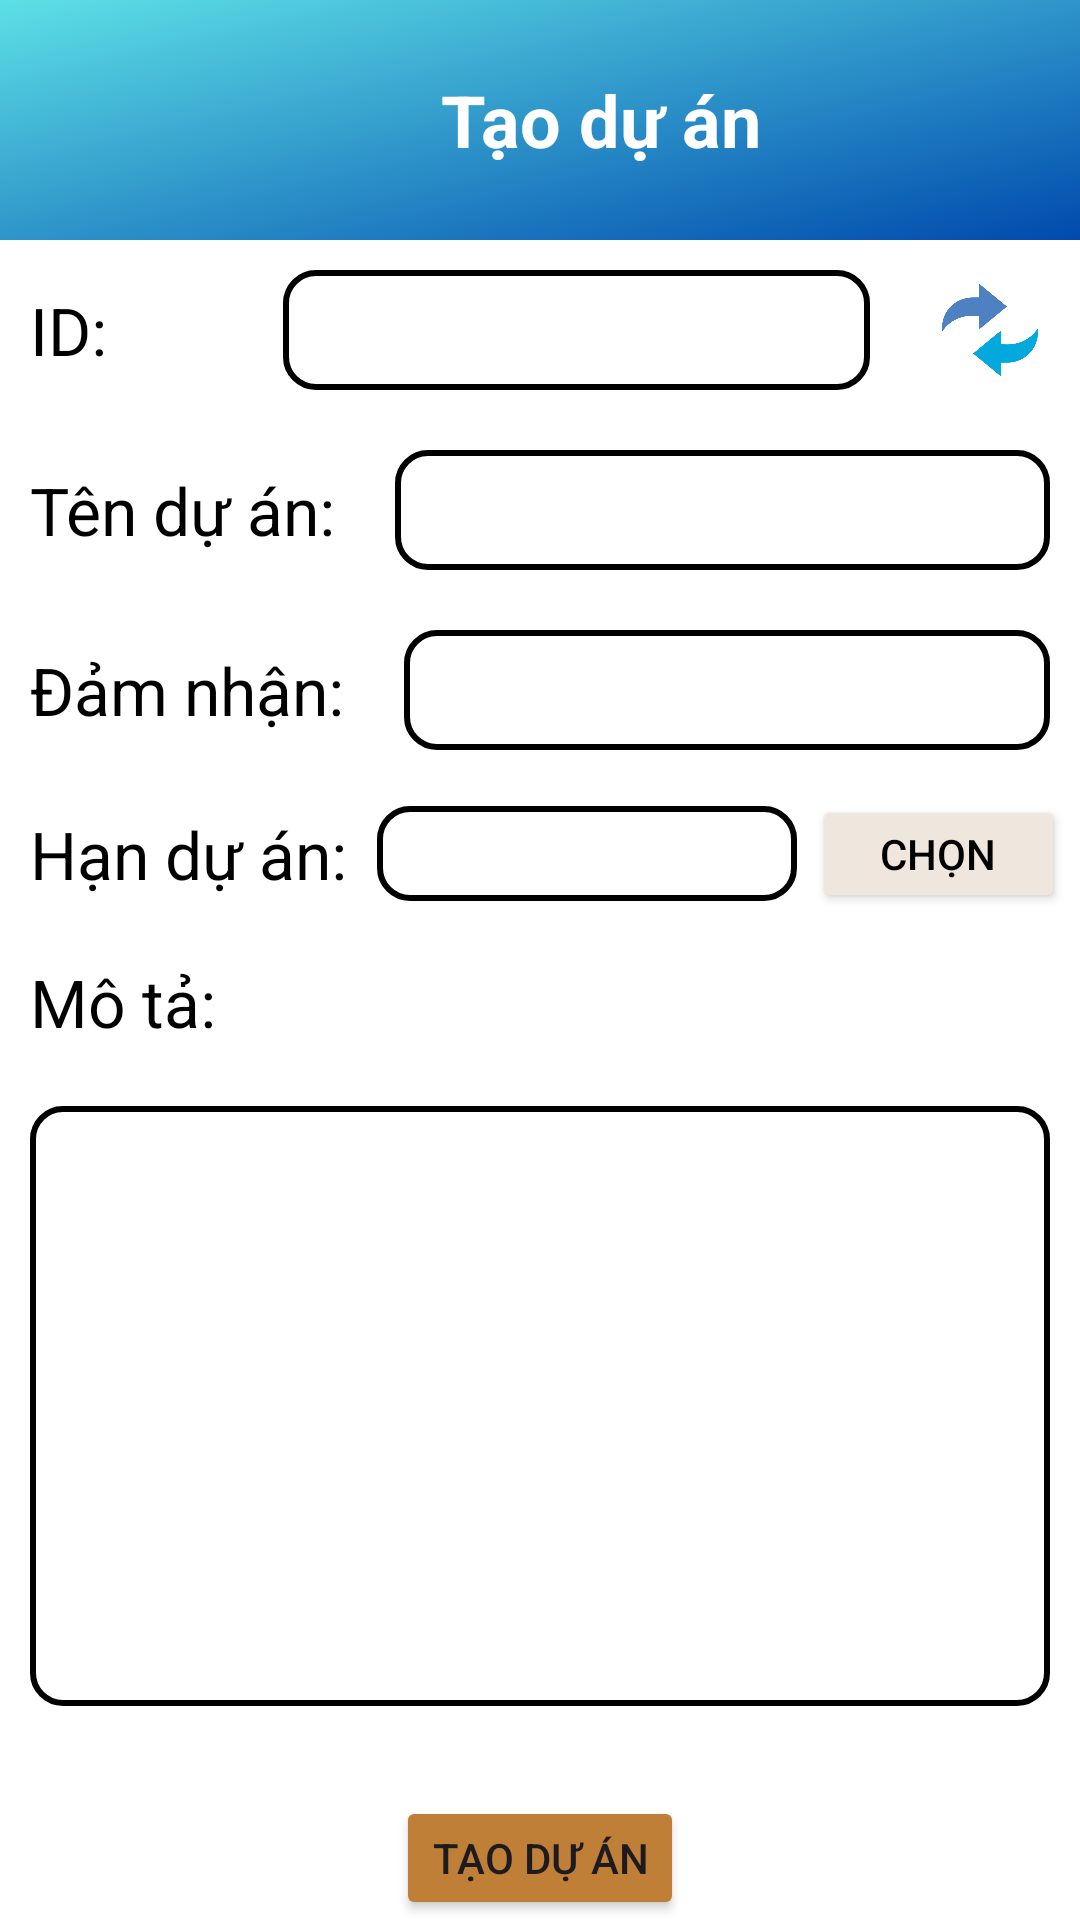

Named icons in this screenshot (1080px x 1920px) and their bounding boxes, (x1, y1, x2, y2):
swap: (942, 284, 1038, 376)
